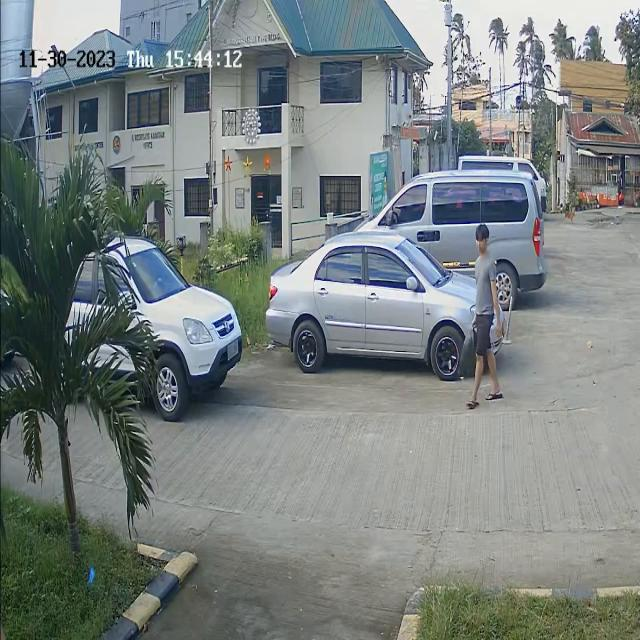person: (472, 222, 503, 329)
